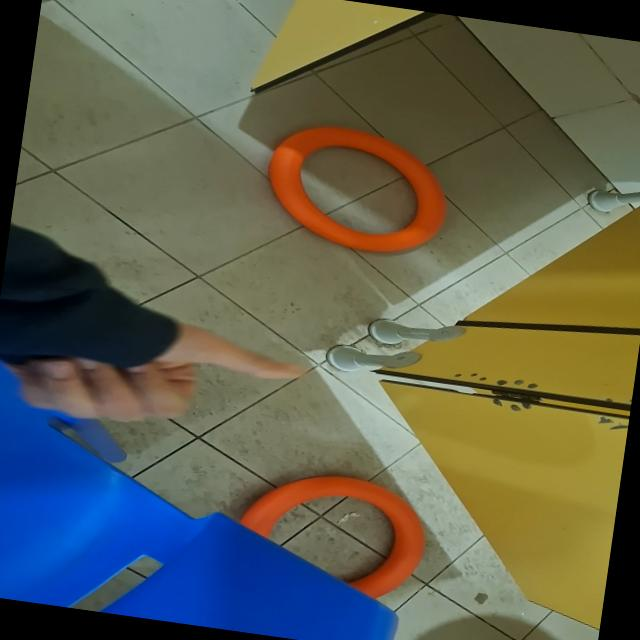note: (230, 462, 434, 606), (257, 116, 457, 262)
